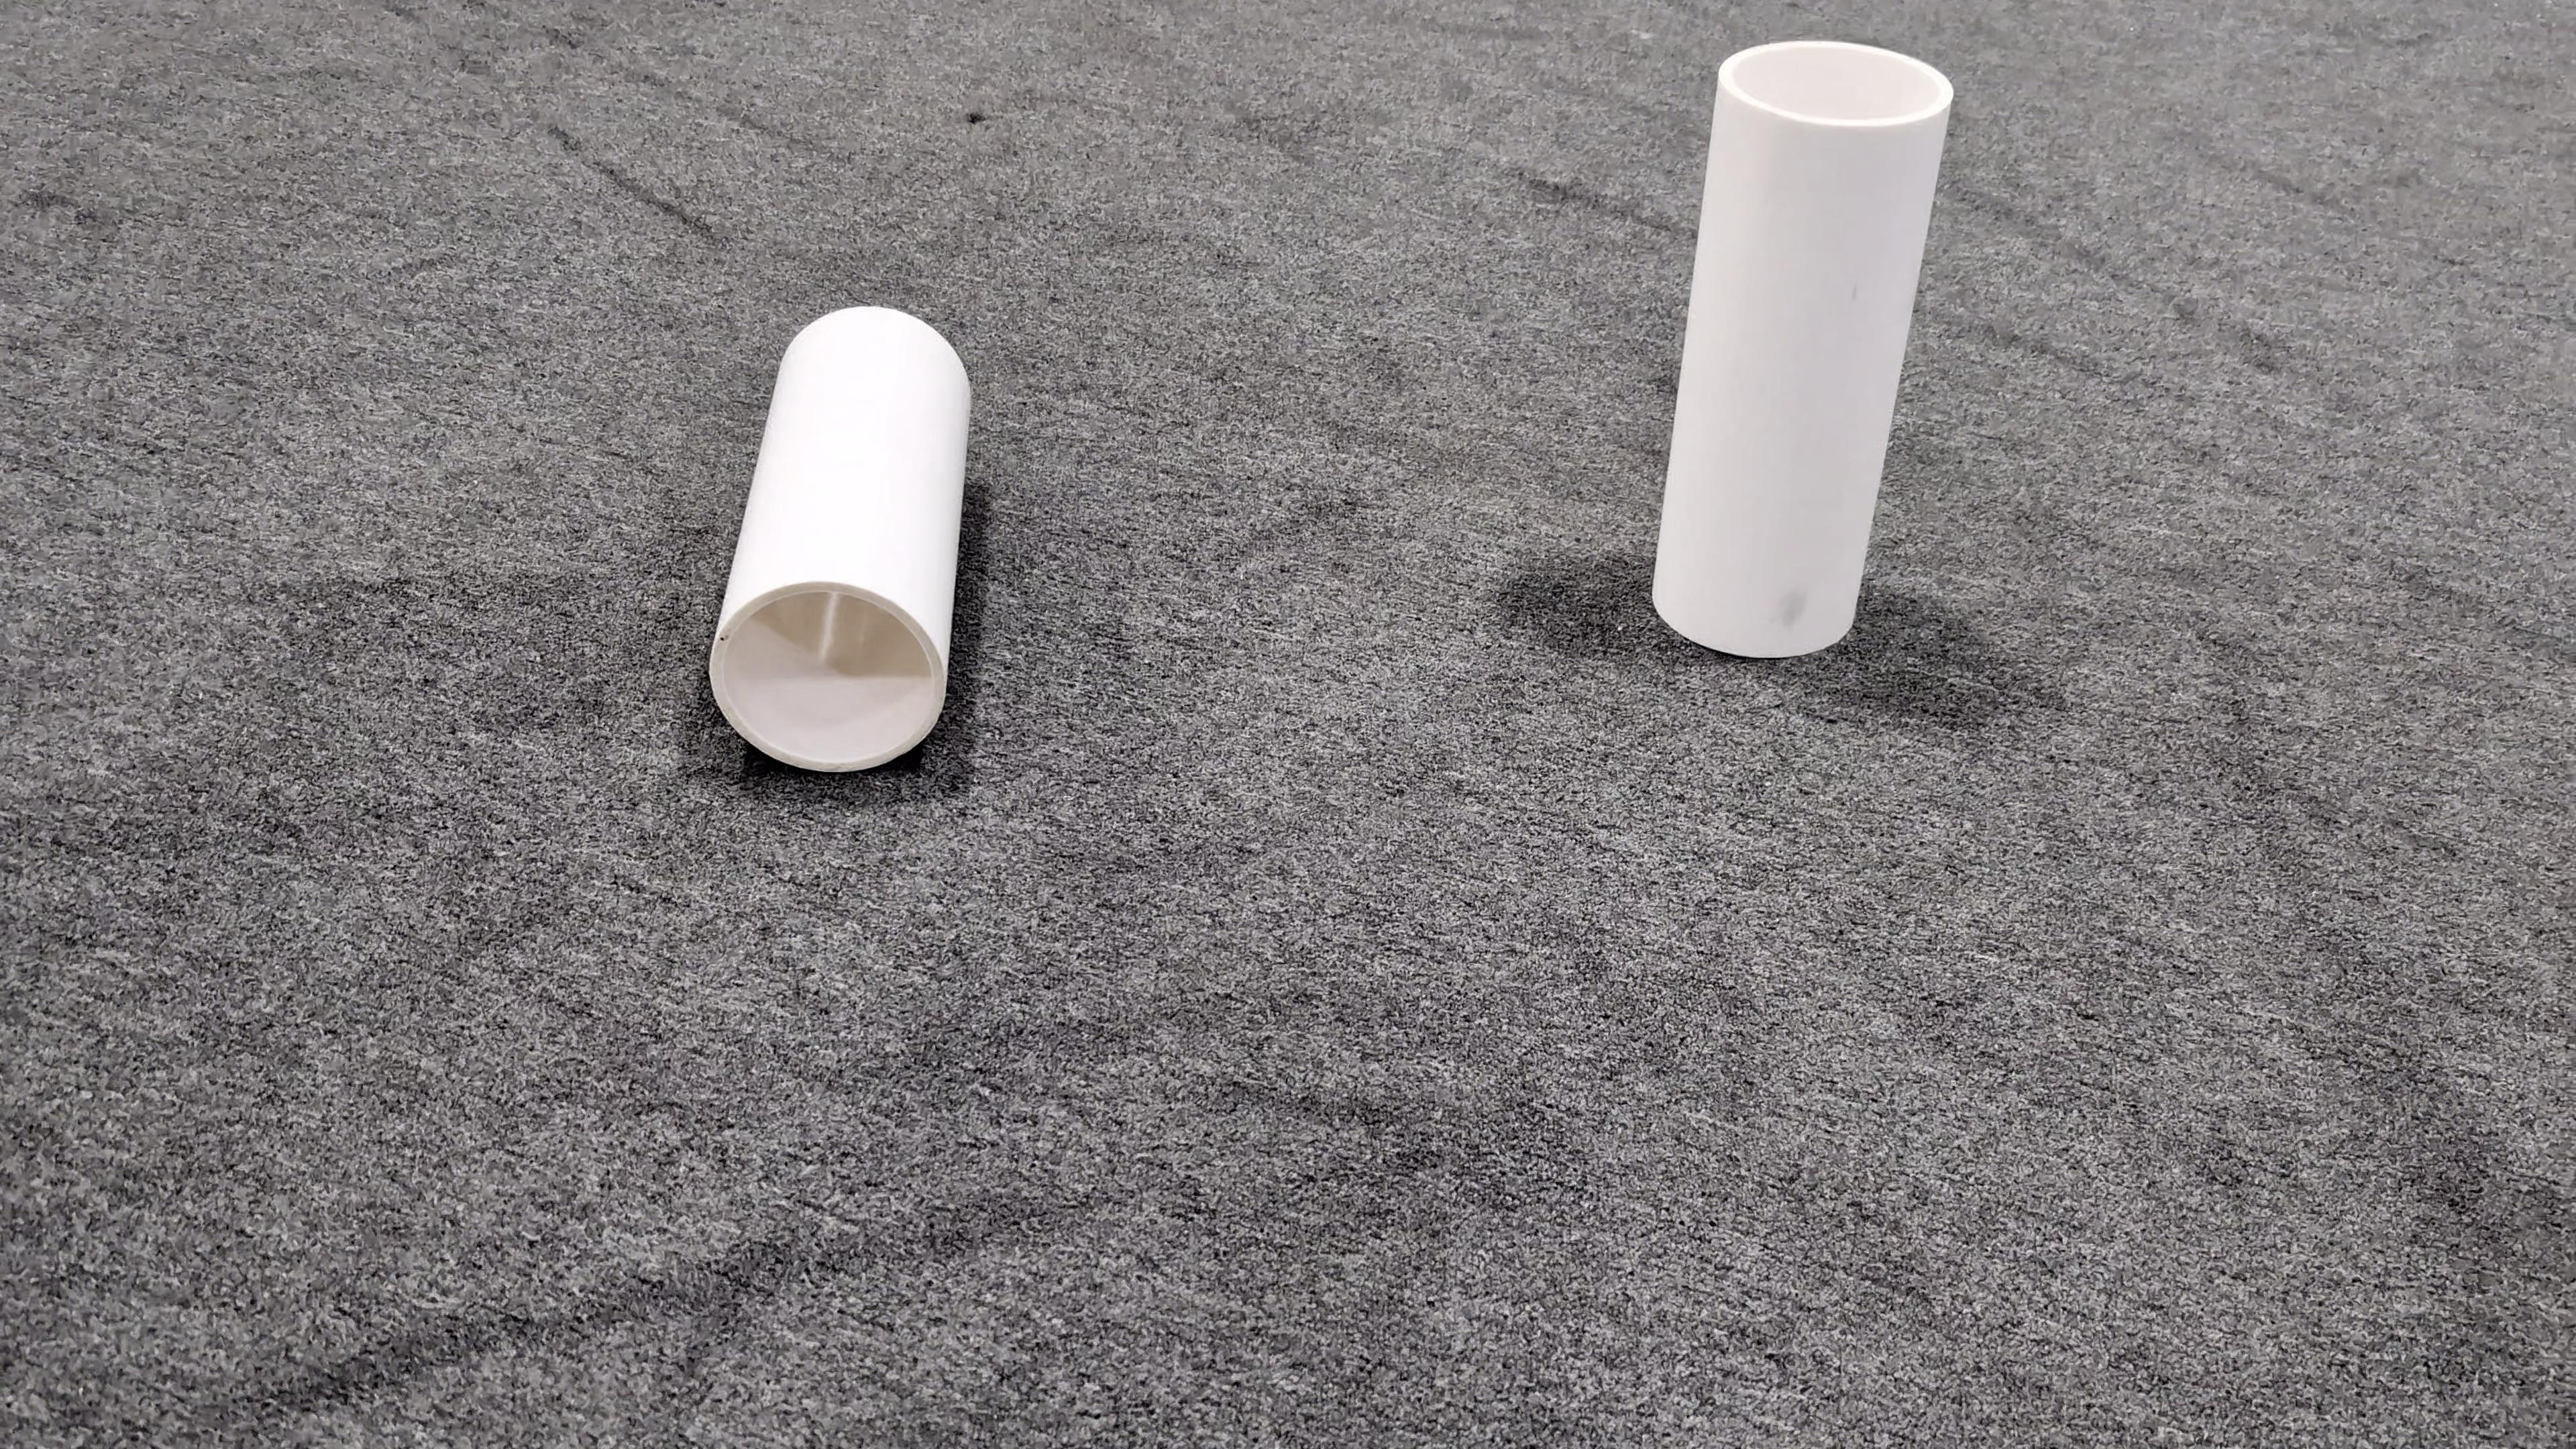coral: (1645, 35, 1951, 658), (706, 303, 975, 773)
